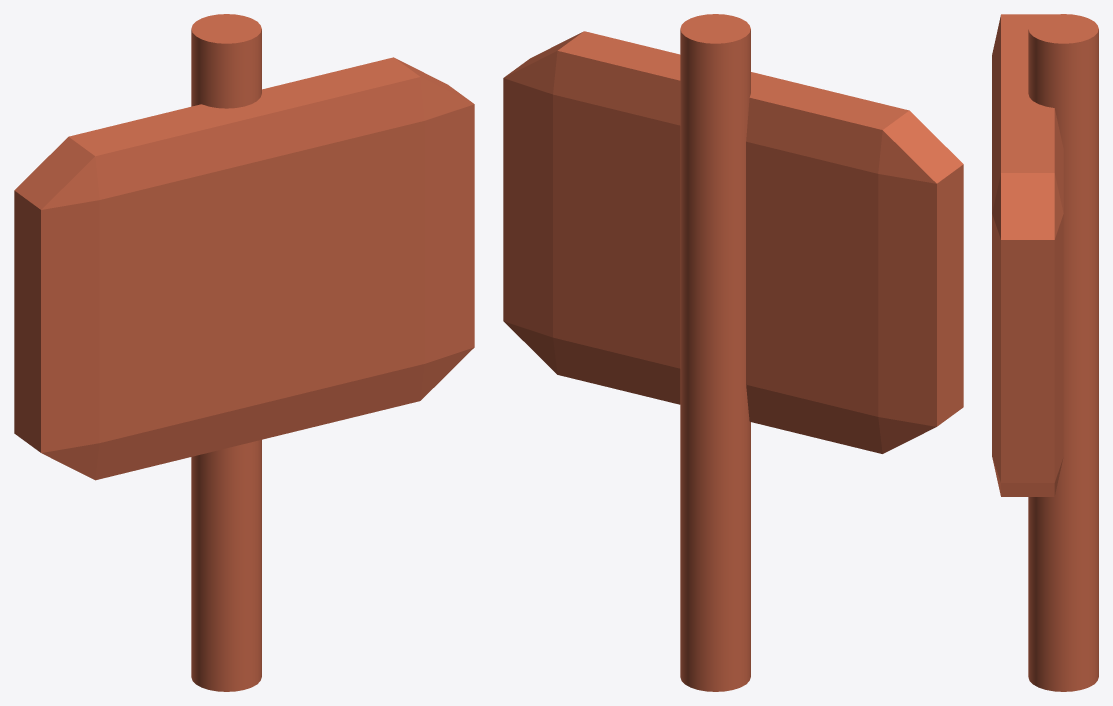
The model's file is Sign.fbx.
3 renders of one model, left to right at view 1: azimuth 30°, elevation 25°; view 2: azimuth 150°, elevation 25°; view 3: azimuth 270°, elevation 25°, orthographic.
Visible parts, largest first — view 1: mergedBlocks; view 2: mergedBlocks; view 3: mergedBlocks.
Part boxes in pixels (x1,y1,x2,y2): mergedBlocks: [14, 14, 474, 691]; mergedBlocks: [503, 14, 963, 691]; mergedBlocks: [992, 14, 1098, 691].
Bounding box in the file's own units: 7 × 10 × 1.49.
